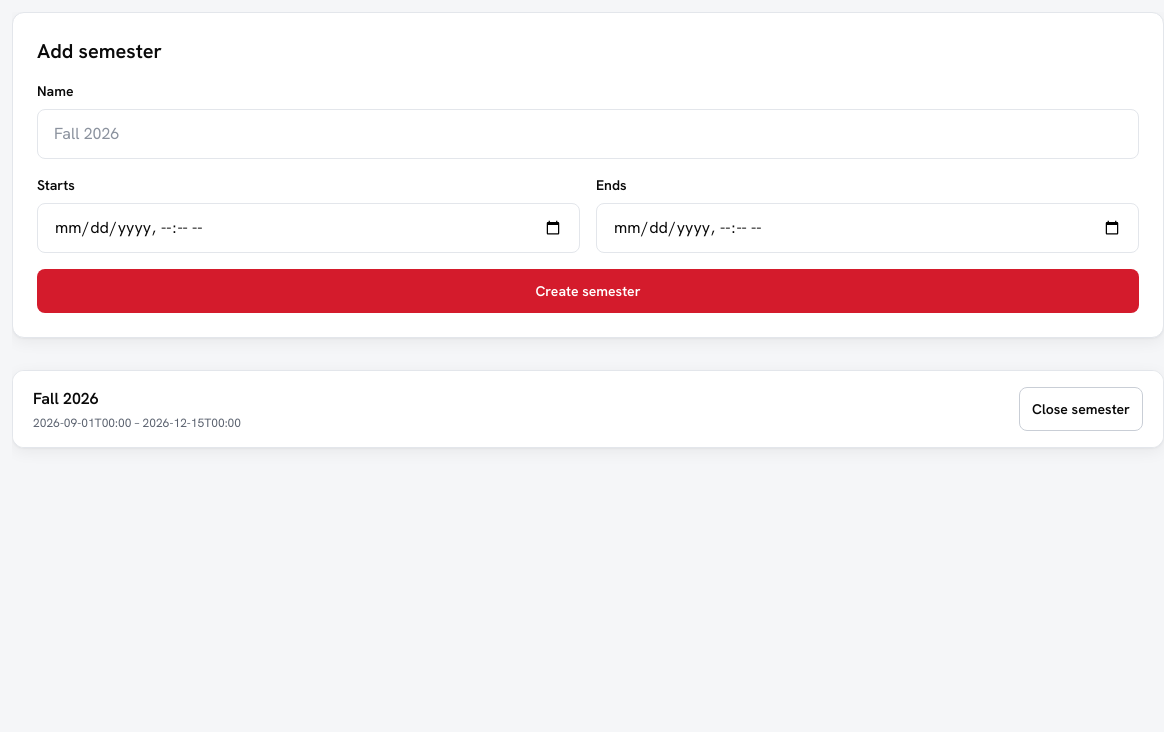
SemesterForm › surfaces close errors
The image size is (1164, 732).
Click the button "Close semester".
click(1081, 409)  # box [1019, 387, 1143, 431]
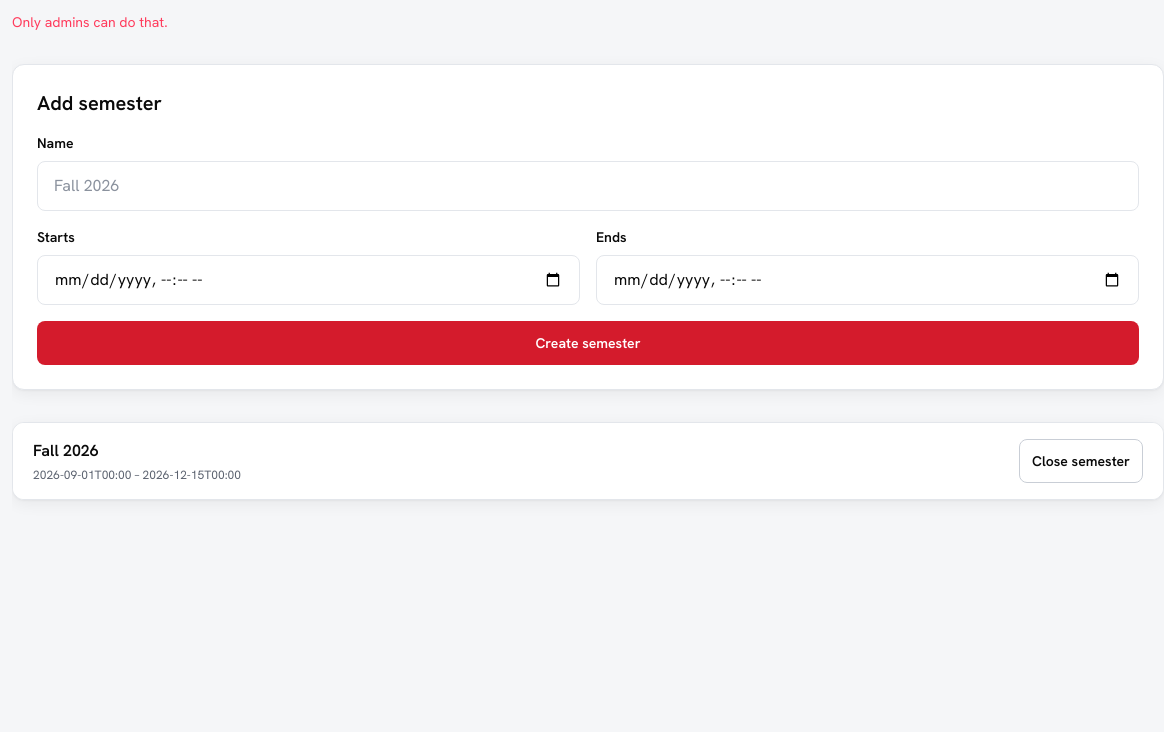
Check: the text "Only admins can do that." is shown, box [12, 13, 168, 31]
